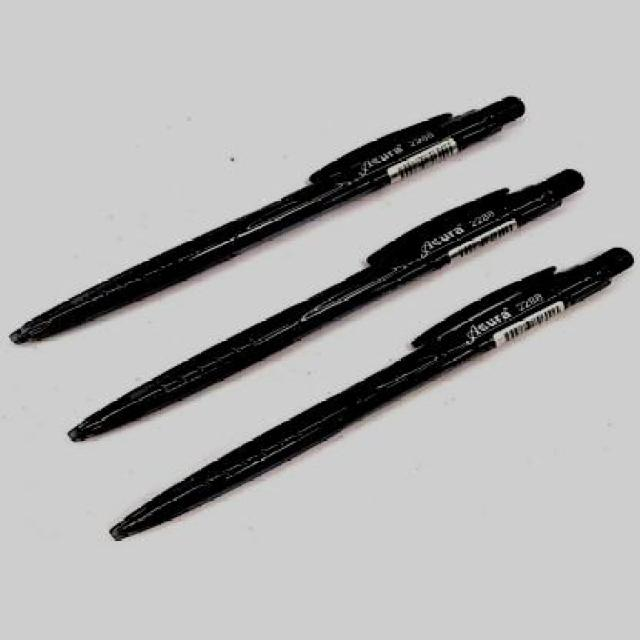pen: (108, 246, 633, 539), (12, 94, 537, 347)
